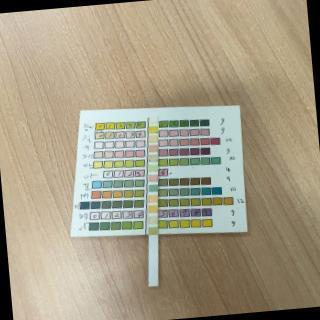mark: (148, 227, 158, 235), (148, 155, 158, 162), (148, 175, 158, 182), (147, 206, 157, 213), (149, 145, 158, 152), (149, 165, 158, 172), (148, 217, 157, 224), (148, 117, 158, 123), (148, 196, 158, 202), (148, 186, 158, 192), (149, 136, 158, 142), (149, 127, 158, 133)
